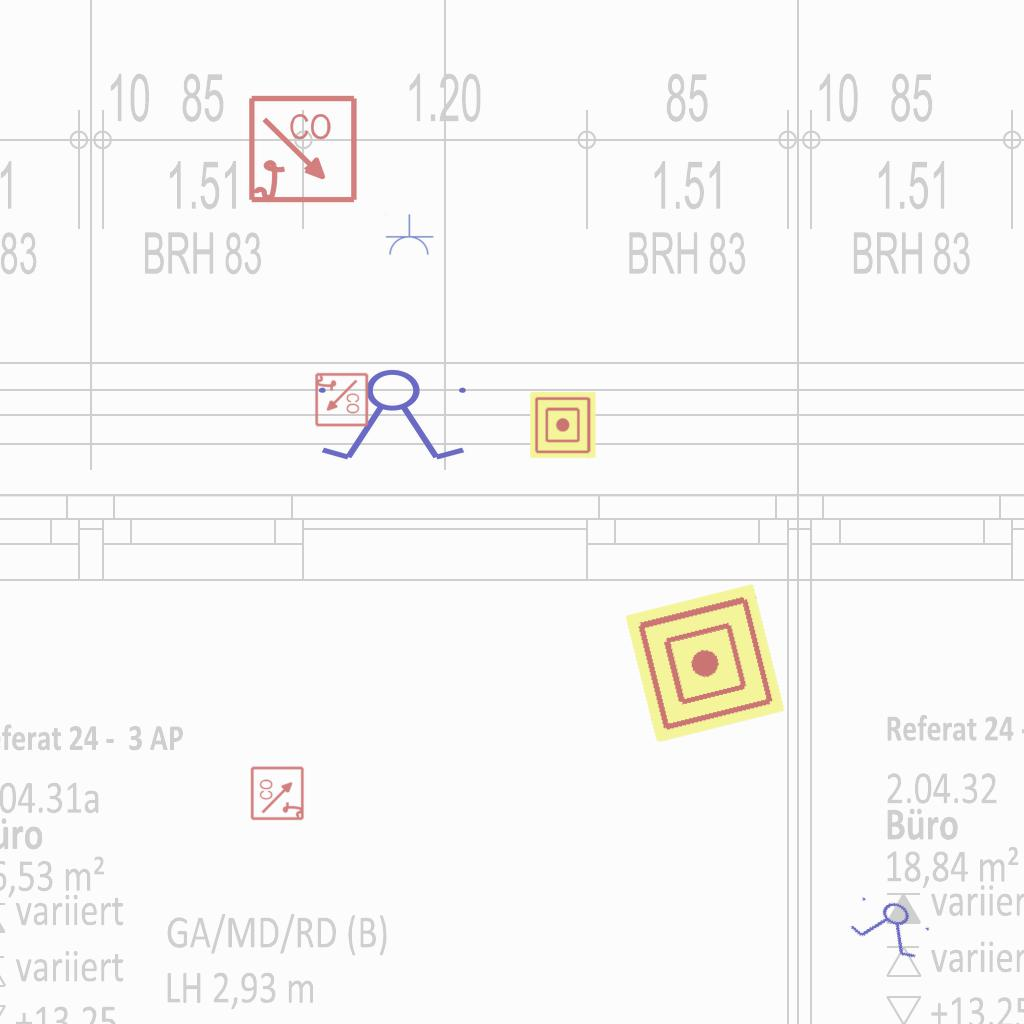NAM-Nichtautomatischer_Melder: (624, 582, 786, 744), (530, 392, 596, 458)
ROA_Rauchmelder_optisch_mit_Signalgeber_(Sockelsirene): (247, 94, 360, 207), (250, 765, 306, 821), (313, 372, 369, 428)
Schukosteckdose_einfach: (384, 214, 434, 257)
Serienschalter: (310, 368, 478, 464), (842, 886, 940, 966)
